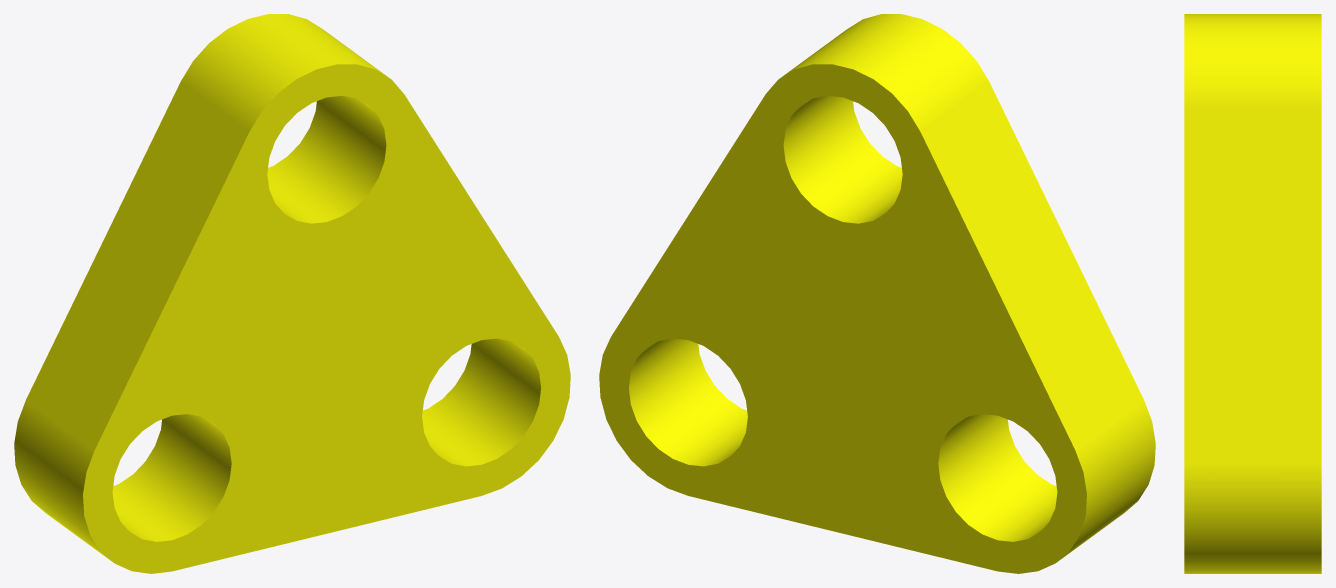
The model's file is tri-hole-mount.glb.
3 renders of one model, left to right at view 1: azimuth 30°, elevation 25°; view 2: azimuth 150°, elevation 25°; view 3: azimuth 270°, elevation 25°, orthographic.
Visible parts, largest first — view 1: Body16; view 2: Body16; view 3: Body16.
Part boxes in pixels (bbox=[...]): Body16: bbox=[14, 14, 570, 573]; Body16: bbox=[599, 14, 1155, 573]; Body16: bbox=[1184, 14, 1321, 573].
Bounding box in the file's own units: 0.041 × 0.0374 × 0.01.
